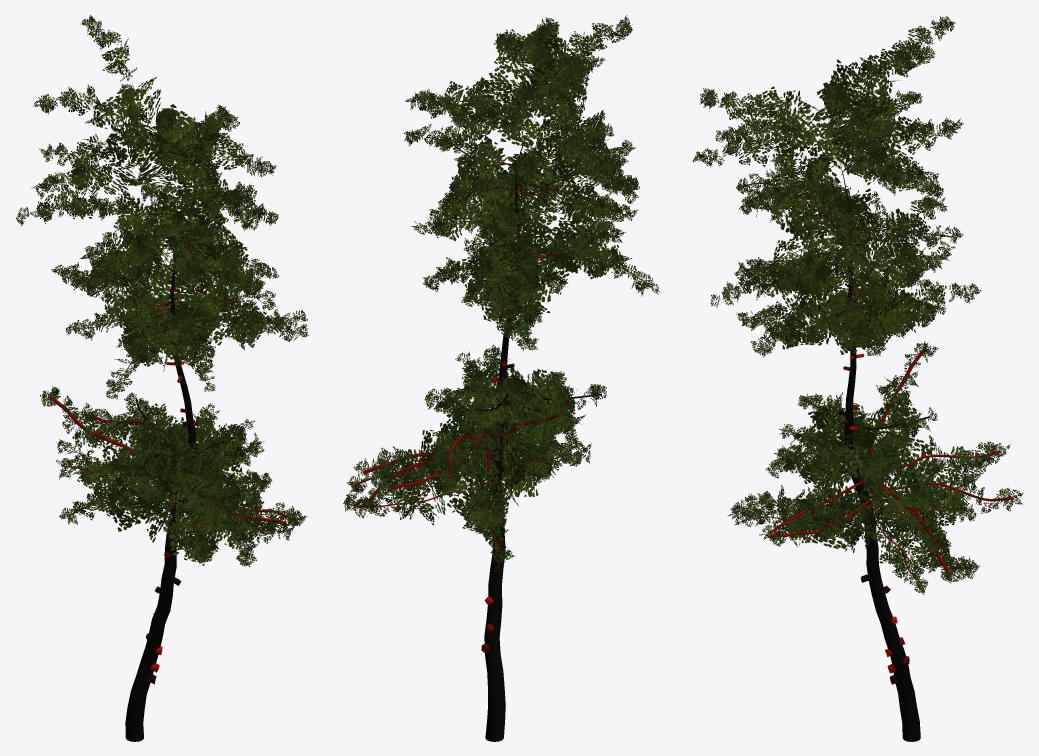
Rendered from Tree_20.fbx.
The picture shows the model from 3 angles, left to right: view 1: azimuth 30°, elevation 25°; view 2: azimuth 150°, elevation 25°; view 3: azimuth 270°, elevation 25°; orthographic projection. The views are drawn at different scales.
Visible parts, largest first — view 1: Tree_16; view 2: Tree_16; view 3: Tree_16.
Part boxes in pixels (x1,y1,x2,y2): Tree_16: [16, 15, 309, 741]; Tree_16: [343, 15, 659, 741]; Tree_16: [692, 16, 1023, 741].
Size of the model in its own units: 1821 by 4553 by 1951.
